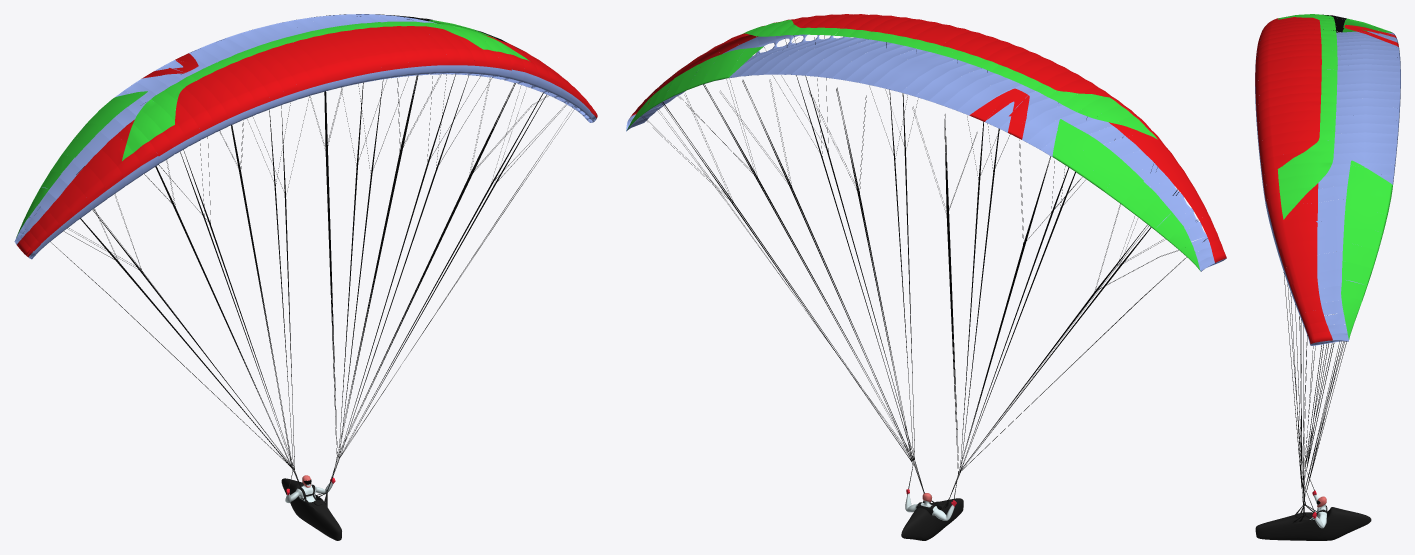
File: glide_model_sky.glb
3 views of the same model, side by side, from view 1: azimuth 30°, elevation 25°; view 2: azimuth 150°, elevation 25°; view 3: azimuth 270°, elevation 25° (orthographic). The views are drawn at different scales.
Parts seen in each view (by area): view 1: ParapenteNovo.002; view 2: ParapenteNovo.002; view 3: ParapenteNovo.002.
Part boxes in pixels (box(x1,y1,x2,y2)): ParapenteNovo.002: box(14, 14, 597, 540); ParapenteNovo.002: box(626, 14, 1226, 540); ParapenteNovo.002: box(1255, 14, 1400, 540).
Bounding box in the file's own units: 4.24 × 3.4 × 0.9411.
